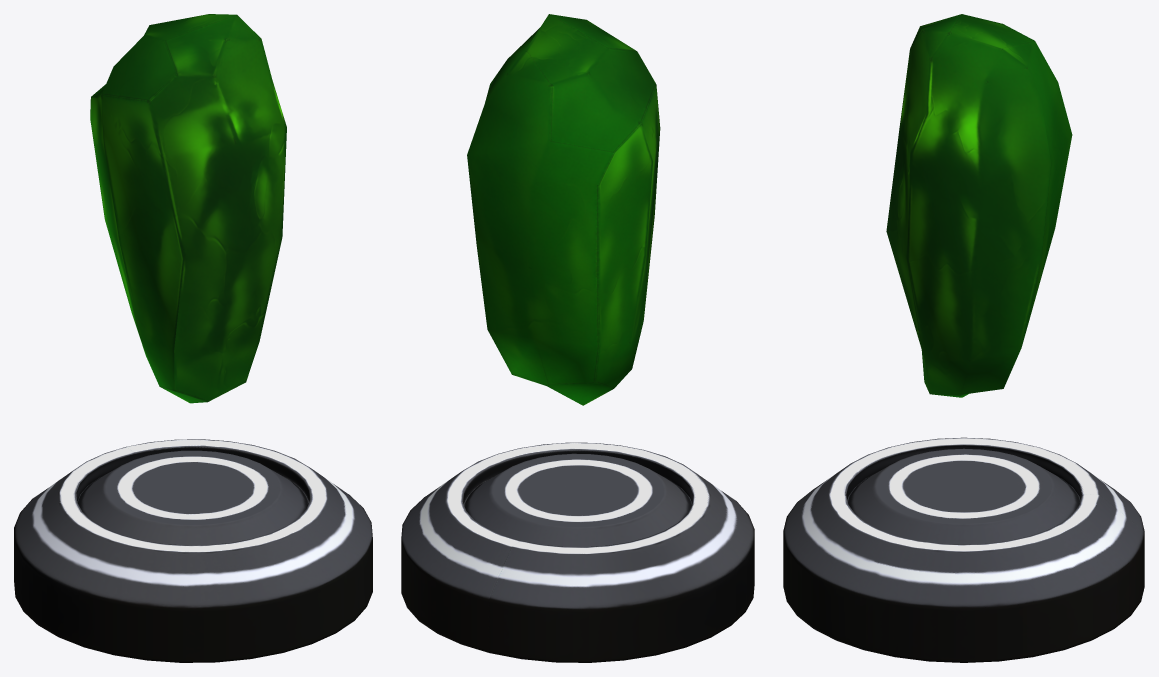
Rendered from crystal-model.gltf.
3 views of the same model, side by side, from view 1: azimuth 30°, elevation 25°; view 2: azimuth 150°, elevation 25°; view 3: azimuth 270°, elevation 25° (orthographic). The views are drawn at different scales.
Parts seen in each view (by area): view 1: low, 1.051; view 2: low, 1.051; view 3: low, 1.051.
Boxes of the visible parts, <box> form: low: <box>14,439,372,662</box>; 1.051: <box>90,14,286,403</box>; low: <box>401,442,754,662</box>; 1.051: <box>467,14,660,405</box>; low: <box>783,437,1144,662</box>; 1.051: <box>886,14,1072,397</box>.
Bounding box in the file's own units: 0.9863 × 1.72 × 0.9863.
Materials: 2 (2 with a texture image).
